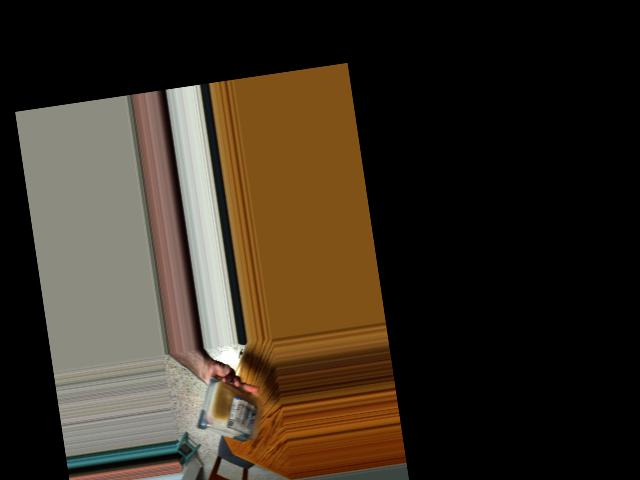cheese: (193, 387, 263, 447)
